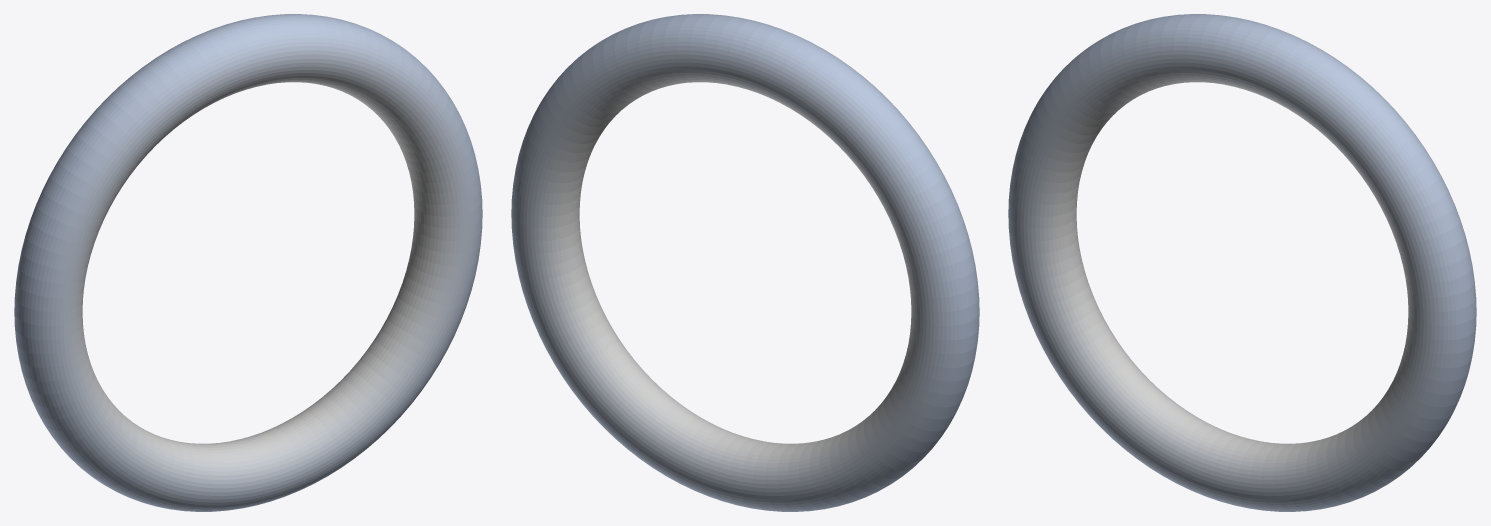
3 views of the same model, side by side, from view 1: azimuth 30°, elevation 25°; view 2: azimuth 150°, elevation 25°; view 3: azimuth 330°, elevation 25° (orthographic).
Parts seen in each view (by area): view 1: world; view 2: world; view 3: world.
Boxes of the visible parts, x1,y1,x2,y2 form: world: (14,14,482,511); world: (511,14,979,511); world: (1008,14,1476,511).
Bounding box in the file's own units: 17.6 × 17.6 × 2.26.
